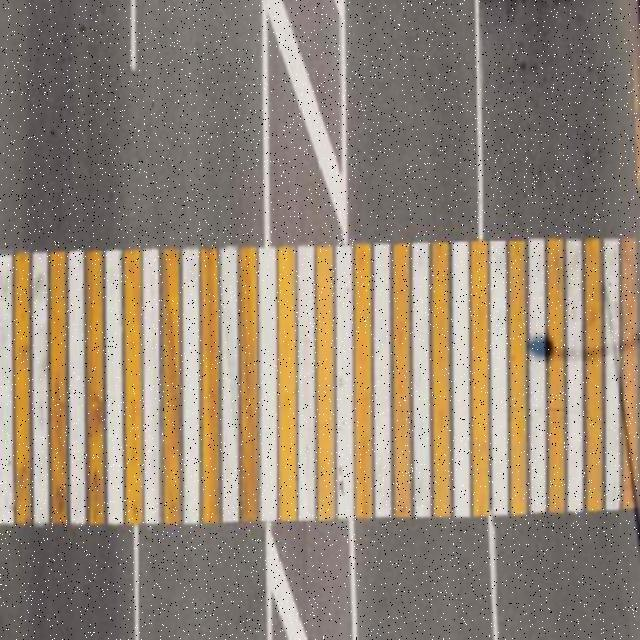Pedestrian crosswalk: (0, 217, 640, 546)
